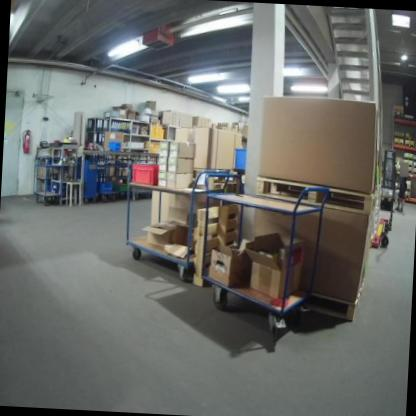pallet: (254, 174, 378, 217), (191, 199, 243, 290), (304, 284, 365, 323), (402, 155, 413, 161), (404, 142, 415, 147), (394, 140, 404, 145), (394, 134, 404, 139), (404, 116, 413, 121), (404, 136, 414, 140), (394, 115, 404, 119), (394, 161, 402, 165), (405, 163, 412, 167), (407, 169, 412, 173), (413, 158, 416, 162), (412, 165, 416, 168)
pallet_truck: (367, 162, 402, 258), (379, 144, 402, 211)
small_load_carrier: (128, 159, 160, 186)
